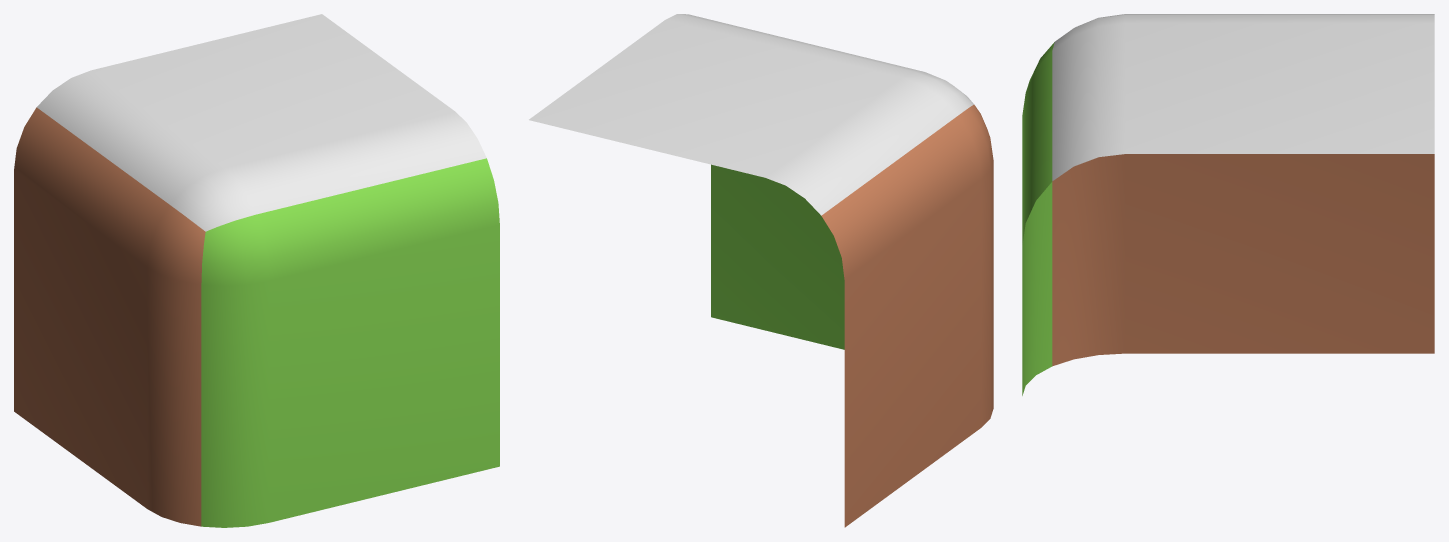
The model's file is SM_Cube_Corner_FN.fbx.
3 views of the same model, side by side, from view 1: azimuth 30°, elevation 25°; view 2: azimuth 150°, elevation 25°; view 3: azimuth 270°, elevation 25° (orthographic). The views are drawn at different scales.
Visible parts, largest first — view 1: SM_Cube_Corner_FN; view 2: SM_Cube_Corner_FN; view 3: SM_Cube_Corner_FN.
Part boxes in pixels (left/top/right/bottom): SM_Cube_Corner_FN: left=14, top=14, right=499, bottom=527; SM_Cube_Corner_FN: left=529, top=14, right=993, bottom=527; SM_Cube_Corner_FN: left=1022, top=14, right=1434, bottom=395.
Size of the model in its own units: 200 by 200 by 200.
